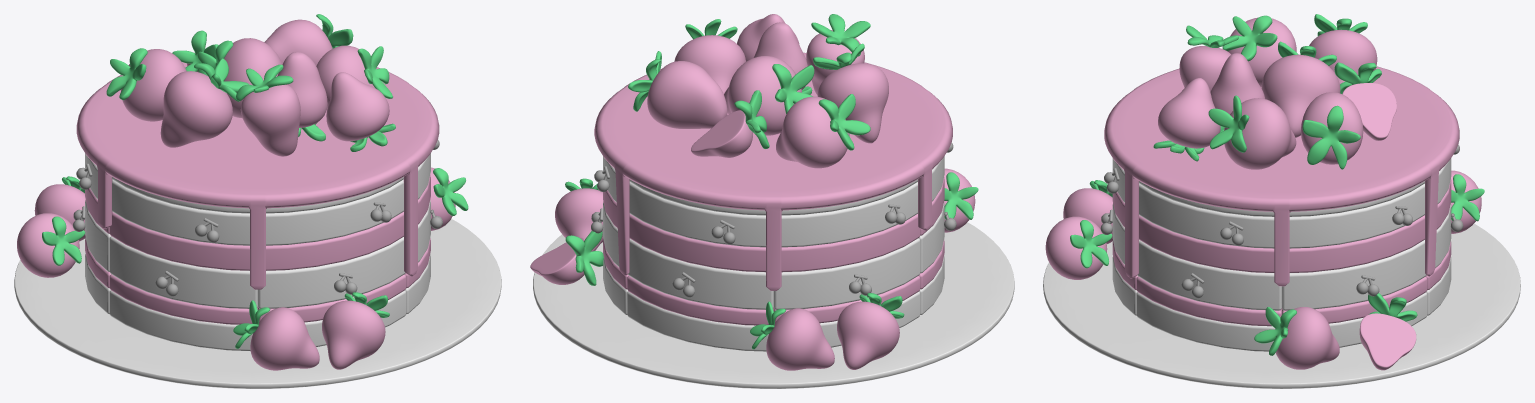
The model's file is DGLXX_strawberry.fbx.
3 renders of one model, left to right at view 1: azimuth 30°, elevation 25°; view 2: azimuth 150°, elevation 25°; view 3: azimuth 270°, elevation 25°, orthographic. The views are drawn at different scales.
Visible parts, largest first — view 1: polySurface28, polySurface29, group2_3, group3_1, group2_4, group6_2, group2_12, group3_7, polySurface148, group4_1, group2_13, polySurface40 (+32 smaller); view 2: polySurface28, polySurface29, group6_1, group2_2, group2_10, group4_2, group6_5, group5_6, group3_4, group3_11, group5_5, group2_1 (+32 smaller); view 3: polySurface28, polySurface29, group2_6, group3_8, group2_7, polySurface153, group3_9, group3_2, group6_3, polySurface157, polySurface22, group3_10 (+32 smaller).
Boxes of the visible parts, left/top/right/bottom form: polySurface28: left=76, top=52, right=439, bottom=289; polySurface29: left=14, top=219, right=501, bottom=388; group2_3: left=109, top=236, right=257, bottom=308; group3_1: left=258, top=237, right=405, bottom=308; group2_4: left=266, top=179, right=403, bottom=245; group6_2: left=112, top=179, right=249, bottom=245; group2_12: left=160, top=71, right=232, bottom=147; group3_7: left=109, top=212, right=249, bottom=270; polySurface148: left=266, top=211, right=403, bottom=270; group4_1: left=109, top=290, right=252, bottom=350; group2_13: left=250, top=307, right=319, bottom=370; polySurface40: left=322, top=300, right=385, bottom=369; polySurface28: left=594, top=52, right=952, bottom=290; polySurface29: left=533, top=222, right=1014, bottom=388; group6_1: left=773, top=238, right=920, bottom=309; group2_2: left=628, top=239, right=773, bottom=309; group2_10: left=647, top=61, right=727, bottom=128; group4_2: left=781, top=182, right=917, bottom=247; group6_5: left=629, top=182, right=765, bottom=247; group5_6: left=781, top=214, right=920, bottom=272; group3_4: left=629, top=214, right=765, bottom=272; group3_11: left=776, top=96, right=849, bottom=168; group5_5: left=627, top=291, right=768, bottom=351; group2_1: left=766, top=308, right=834, bottom=370; polySurface28: left=1104, top=66, right=1459, bottom=286; polySurface29: left=1043, top=223, right=1520, bottom=388; group2_6: left=1137, top=240, right=1281, bottom=310; group3_8: left=1282, top=240, right=1426, bottom=310; group2_7: left=1289, top=183, right=1424, bottom=248; polySurface153: left=1139, top=183, right=1274, bottom=248; group3_9: left=1261, top=54, right=1340, bottom=137; group3_2: left=1139, top=215, right=1274, bottom=272; group6_3: left=1289, top=215, right=1424, bottom=272; polySurface157: left=1136, top=292, right=1275, bottom=351; polySurface22: left=1224, top=98, right=1296, bottom=169; group3_10: left=1158, top=78, right=1220, bottom=148.
Bounding box in the file's own units: 469 × 263 × 469.
